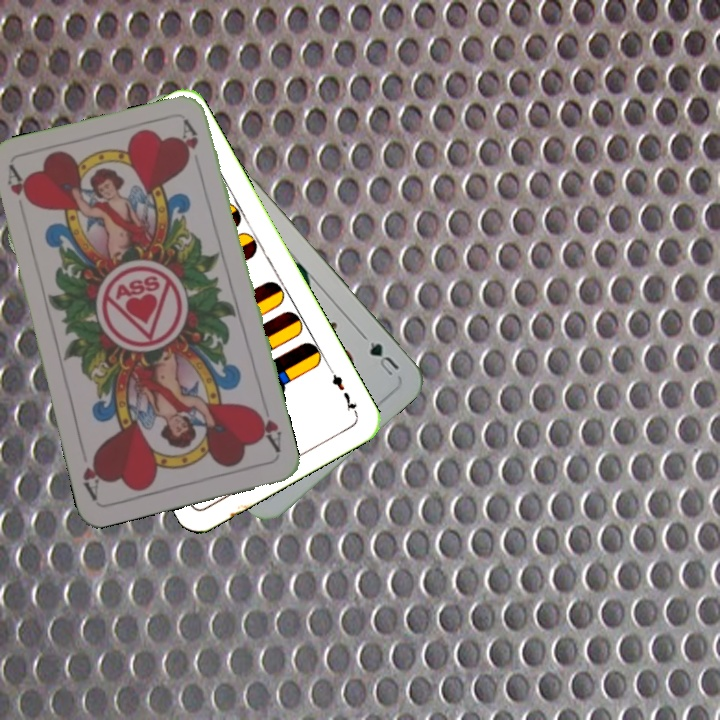E7: (325, 364, 361, 418)
GU: (365, 337, 402, 379)
HA: (251, 404, 285, 455), (3, 162, 36, 207)
